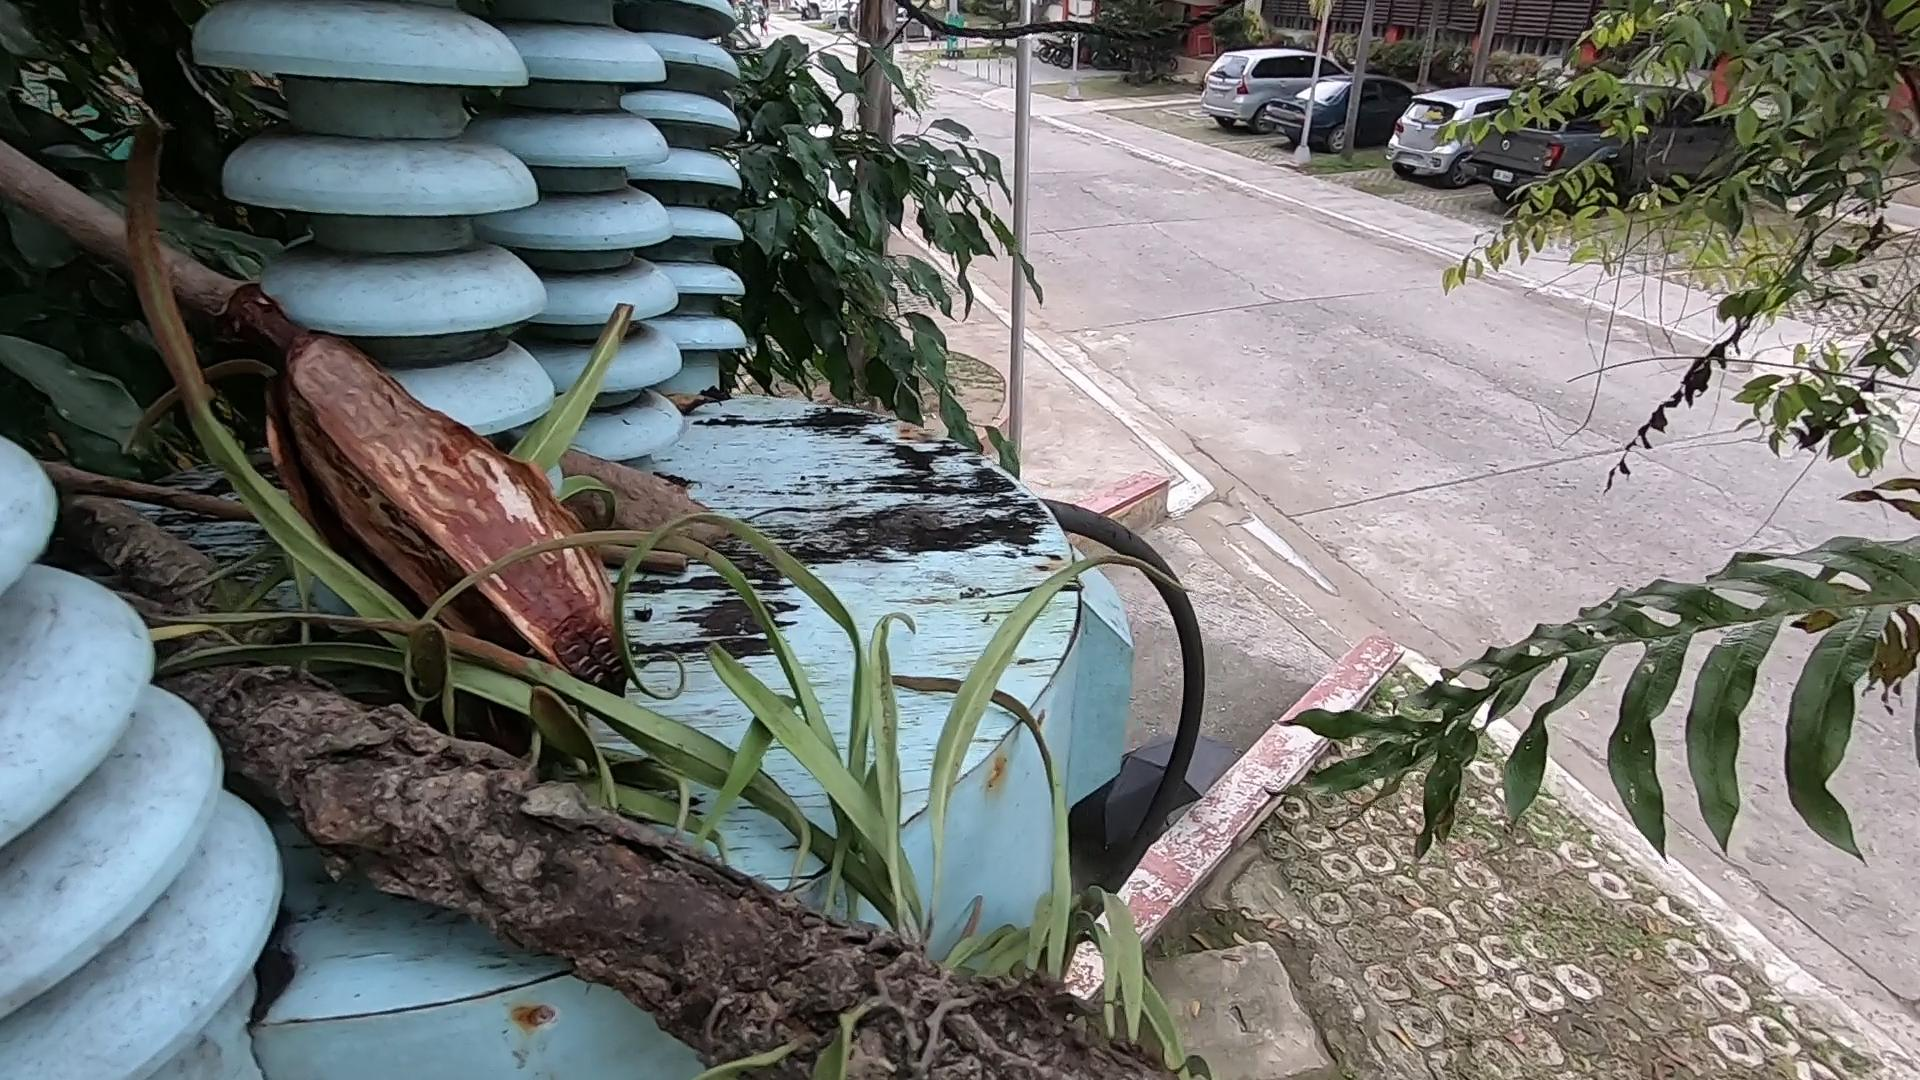branch with leaves: (62, 495, 1075, 1080)
leaf: (615, 365, 723, 426)
mahogany fruit: (248, 338, 645, 645), (537, 405, 835, 601)
tree branch: (33, 444, 720, 618), (3, 135, 260, 556)
